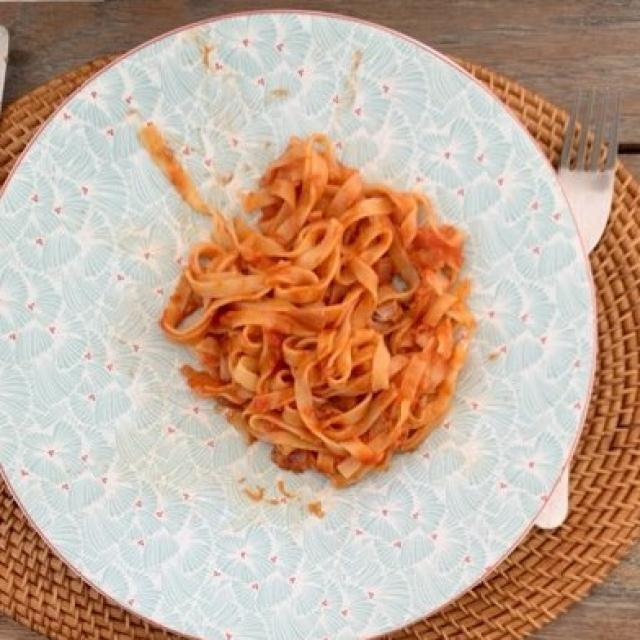pasta: (166, 142, 466, 479)
tomato-sauce: (193, 177, 441, 479)
